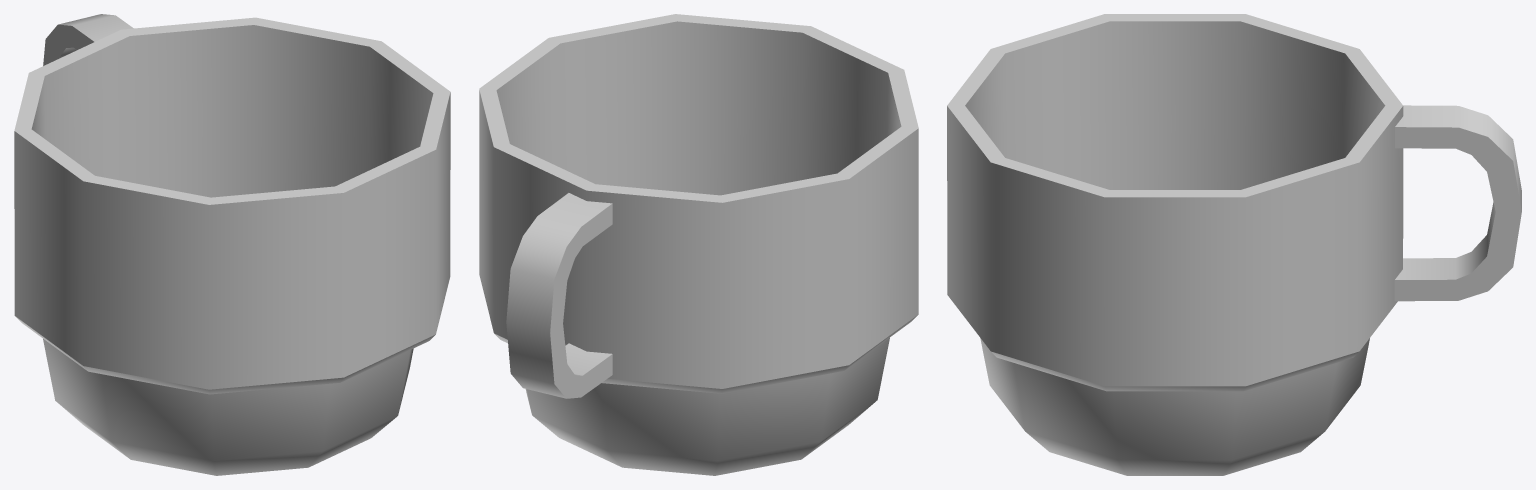
Rendered from CoffeeCup_01.fbx.
The picture shows the model from 3 angles, left to right: view 1: azimuth 30°, elevation 25°; view 2: azimuth 150°, elevation 25°; view 3: azimuth 270°, elevation 25°; orthographic projection. The views are drawn at different scales.
Visible parts, largest first — view 1: CoffeeCup_01; view 2: CoffeeCup_01; view 3: CoffeeCup_01.
Part boxes in pixels (bbox=[...]): CoffeeCup_01: bbox=[14, 14, 450, 475]; CoffeeCup_01: bbox=[479, 14, 918, 475]; CoffeeCup_01: bbox=[947, 14, 1521, 475].
Bounding box in the file's own units: 0.0909 × 0.0748 × 0.1204.
